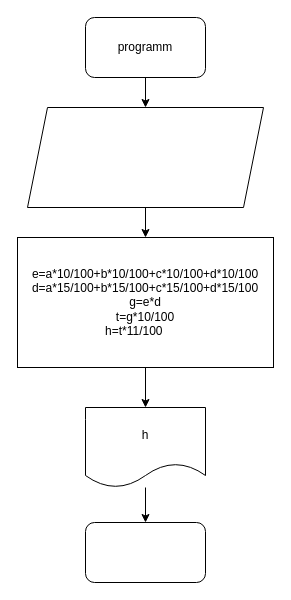
Image size: 291x600. Some labels were removed from this diagram. Each missing label, with the box of its shape:
a=123456 b=234567 c=345678 d=456789 g t h: (26, 106, 264, 208)
finish: (84, 522, 206, 582)
